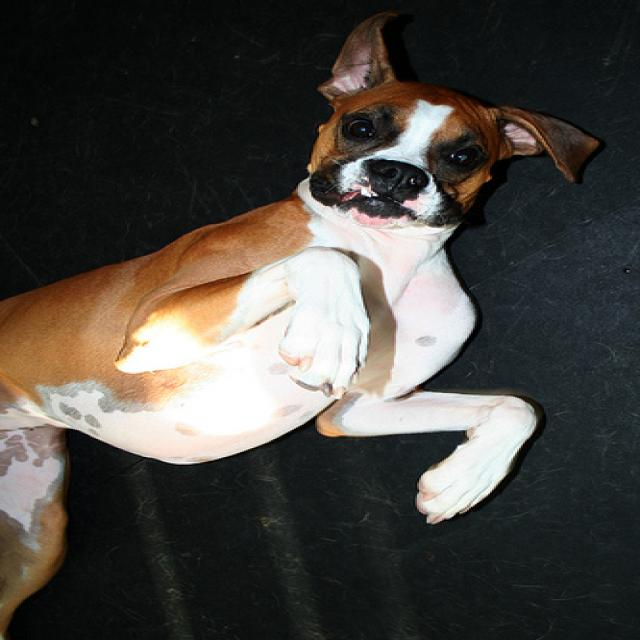dog: (294, 9, 598, 232)
